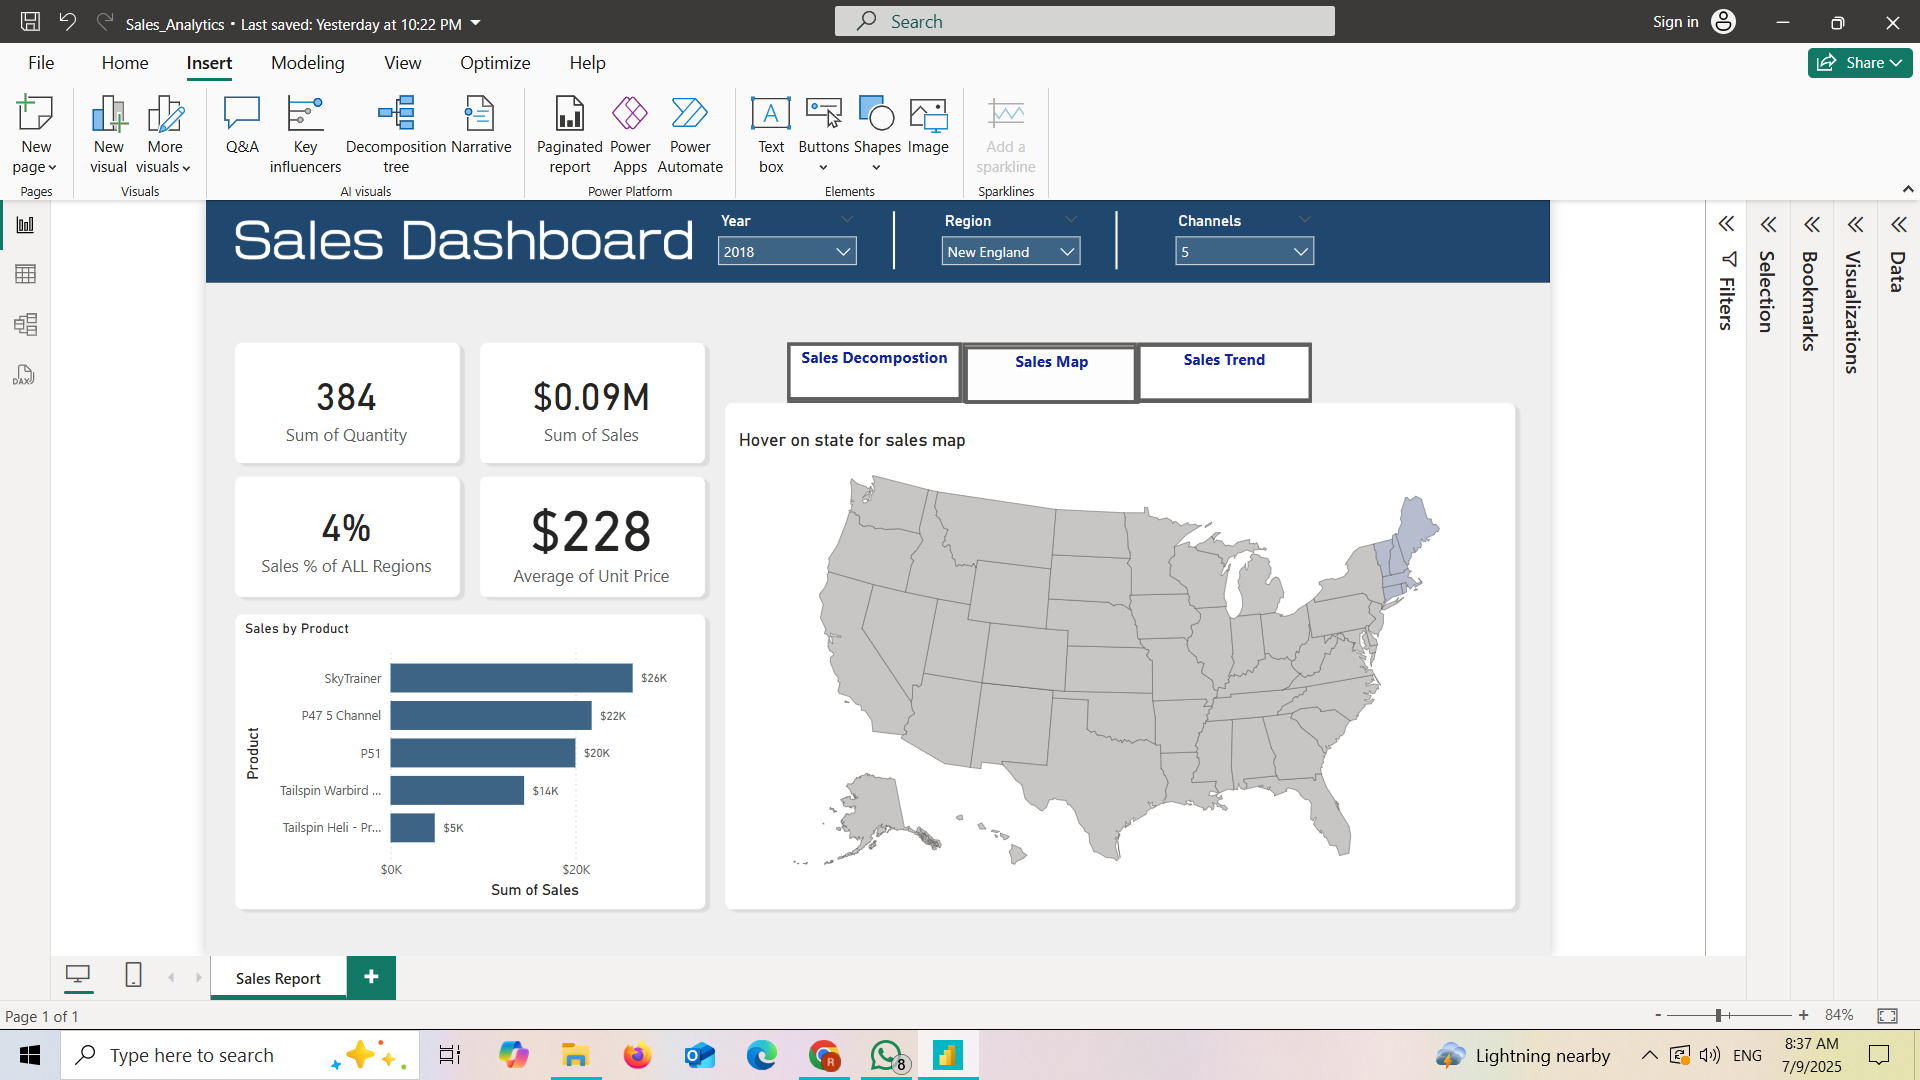

What the dashboard file says about the page in this screenshot:
{"tool":"powerbi","page":{"name":"Sales Report","canvas":[1280,720],"ordinal":0},"visuals":[{"type":"card","title":"Card Quantity","fields":{"Values":["Sum(Sales.Quantity)"]},"box":[29.5,138.7,208.1,110.5],"z":0},{"type":"card","title":"Card region","fields":{"Values":["Sales.Sales % of ALL Regions"]},"box":[29.5,264.6,208.1,110.5],"z":1000},{"type":"card","title":" Card sales","fields":{"Values":["Sum(Sales.Sales)"]},"box":[263.4,138.7,208.1,110.5],"z":2000},{"type":"card","title":"Card Unit price","fields":{"Values":["Avg(Sales.Unit Price)"]},"box":[263.4,264.6,208.1,110.5],"z":3000},{"type":"barChart","title":"Sales by Product","fields":{"Category":["Product.Product"],"Y":["Sum(Sales.Sales)"]},"box":[32,400,438,270],"z":4000},{"type":"slicer","fields":{"Values":["Date.Year"]},"box":[477.8,5.6,152,61],"z":5000},{"type":"slicer","fields":{"Values":["Region.Region"]},"box":[690,5.6,152.2,61.1],"z":6000},{"type":"slicer","fields":{"Values":["Product.Channels"]},"box":[913.3,5.6,152.2,61.1],"z":7000},{"type":"shape","box":[620,11.1,70,55.6],"z":8000},{"type":"shape","box":[832.2,11.1,70,55.6],"z":9000},{"type":"actionButton","title":"btn active:Decomposition","box":[553.8,135.9,166.3,54.9],"z":10000},{"type":"actionButton","title":"btn active:Trend","box":[886.4,137.4,166.3,54.9],"z":11000},{"type":"actionButton","title":" btn active:map","box":[723,138.8,166.3,54.9],"z":12000},{"type":"shapeMap","title":"Hover on state for sales map","fields":{"Category":["State.State Code"],"Value":["Sum(Sales.Sales)"]},"box":[502.3,217.4,730.2,440.7],"z":14000},{"type":"actionButton","box":[553.8,135.9,166.3,57.8],"z":17001},{"type":"actionButton","box":[720.1,135.9,166.3,57.8],"z":17002},{"type":"actionButton","box":[886.4,135.9,166.3,57.8],"z":17003}]}

Visuals, with their boxes on the page's 1280x720 design canvas (x1, y1, x2, y2). These are canvas units, not pixel positions in the 1920x1080 screenshot, which may show the page scaled, cropped or inside an application window:
"Card Quantity" card: bbox=[30, 139, 238, 249]
"Card region" card: bbox=[30, 265, 238, 375]
" Card sales" card: bbox=[263, 139, 472, 249]
"Card Unit price" card: bbox=[263, 265, 472, 375]
"Sales by Product" barChart: bbox=[32, 400, 470, 670]
slicer - Date.Year: bbox=[478, 6, 630, 67]
slicer - Region.Region: bbox=[690, 6, 842, 67]
slicer - Product.Channels: bbox=[913, 6, 1066, 67]
shape: bbox=[620, 11, 690, 67]
shape: bbox=[832, 11, 902, 67]
"btn active:Decomposition" actionButton: bbox=[554, 136, 720, 191]
"btn active:Trend" actionButton: bbox=[886, 137, 1053, 192]
" btn active:map" actionButton: bbox=[723, 139, 889, 194]
"Hover on state for sales map" shapeMap: bbox=[502, 217, 1232, 658]
actionButton: bbox=[554, 136, 720, 194]
actionButton: bbox=[720, 136, 886, 194]
actionButton: bbox=[886, 136, 1053, 194]
